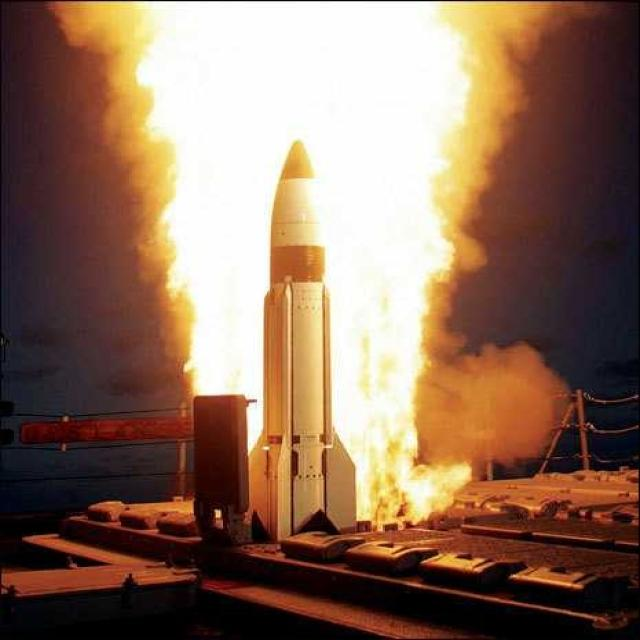missile: (239, 134, 359, 546)
